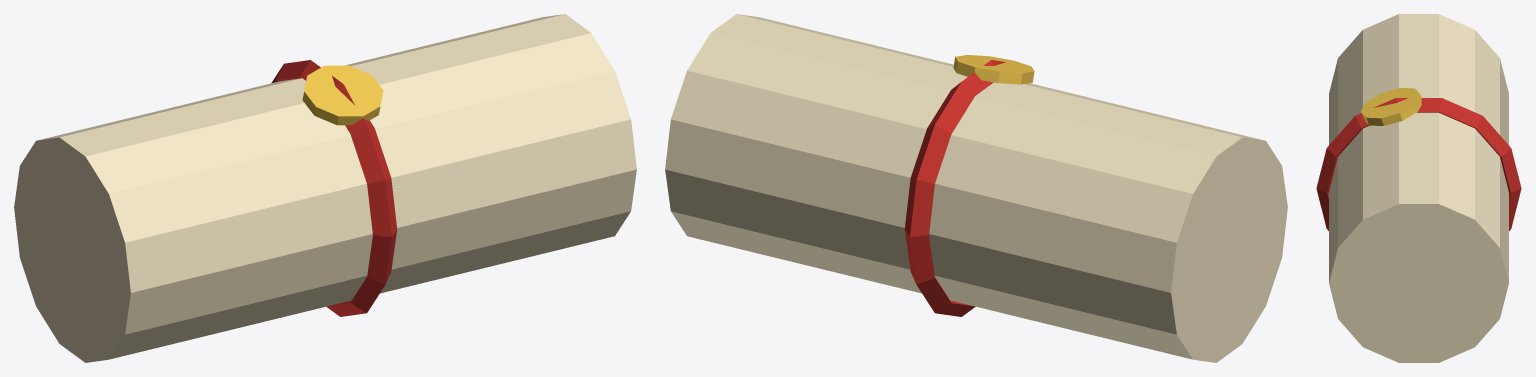
The model's file is diploma_roll.glb.
3 renders of one model, left to right at view 1: azimuth 30°, elevation 25°; view 2: azimuth 150°, elevation 25°; view 3: azimuth 270°, elevation 25°, orthographic. The views are drawn at different scales.
Visible parts, largest first — view 1: roll_diploma_parchment, ribbon_diploma_ribbon, seal_diploma_gold; view 2: roll_diploma_parchment, ribbon_diploma_ribbon, seal_diploma_gold; view 3: roll_diploma_parchment, ribbon_diploma_ribbon, seal_diploma_gold.
Part boxes in pixels (left/top/right/bottom): roll_diploma_parchment: left=14, top=14, right=636, bottom=362; ribbon_diploma_ribbon: left=271, top=60, right=397, bottom=316; seal_diploma_gold: left=302, top=65, right=383, bottom=125; roll_diploma_parchment: left=665, top=14, right=1287, bottom=362; ribbon_diploma_ribbon: left=904, top=60, right=1030, bottom=316; seal_diploma_gold: left=953, top=55, right=1034, bottom=84; roll_diploma_parchment: left=1329, top=14, right=1508, bottom=362; ribbon_diploma_ribbon: left=1316, top=98, right=1521, bottom=230; seal_diploma_gold: left=1360, top=88, right=1421, bottom=125.
Size of the model in its own units: 0.5 by 0.2263 by 0.228.
